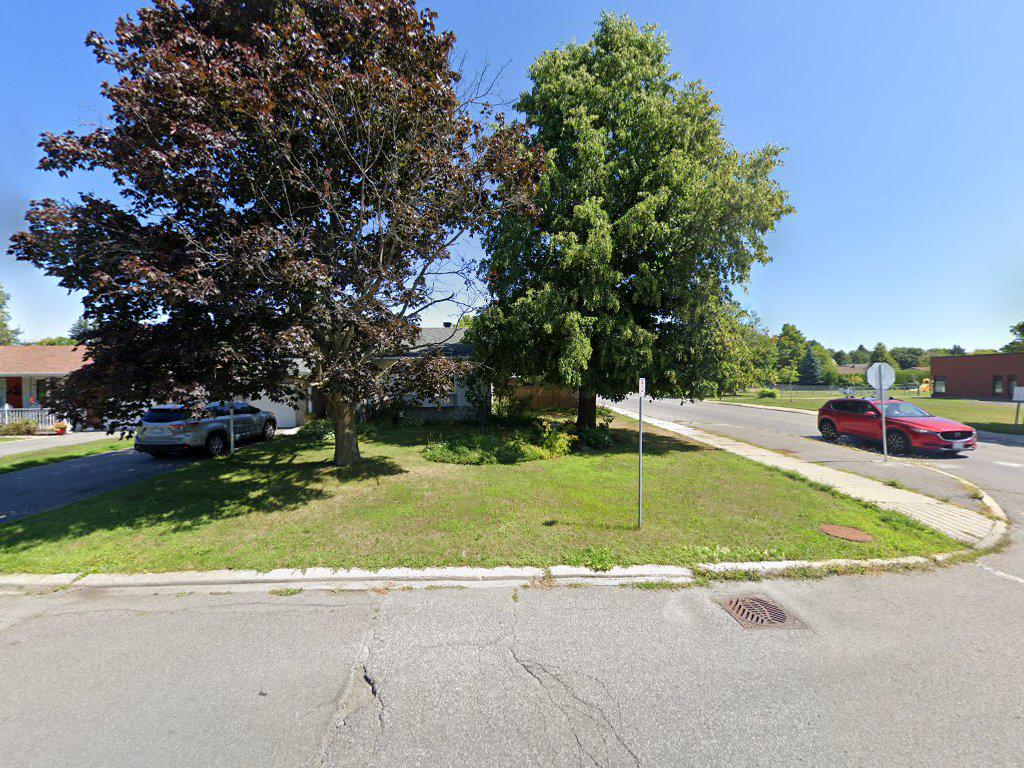trunk: (327, 381, 373, 483), (574, 375, 605, 456)
